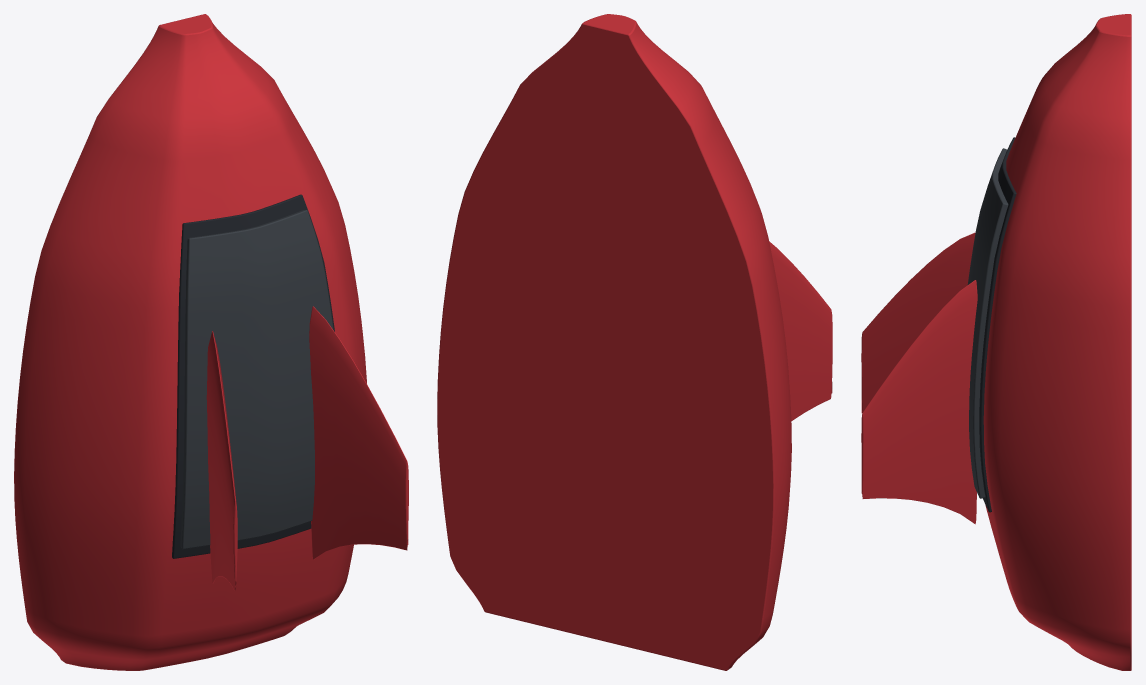
Rendered from CalfBack_Set01_Ironclad.fbx.
3 renders of one model, left to right at view 1: azimuth 30°, elevation 25°; view 2: azimuth 150°, elevation 25°; view 3: azimuth 270°, elevation 25°, orthographic. The views are drawn at different scales.
Parts seen in each view (by area): view 1: CalfBack_Set01_Ironclad; view 2: CalfBack_Set01_Ironclad; view 3: CalfBack_Set01_Ironclad.
Part boxes in pixels (<box>): CalfBack_Set01_Ironclad: <box>14,14,408,670</box>; CalfBack_Set01_Ironclad: <box>437,14,832,670</box>; CalfBack_Set01_Ironclad: <box>861,14,1131,670</box>.
Bounding box in the file's own units: 0.4205 × 0.73 × 0.3029.
